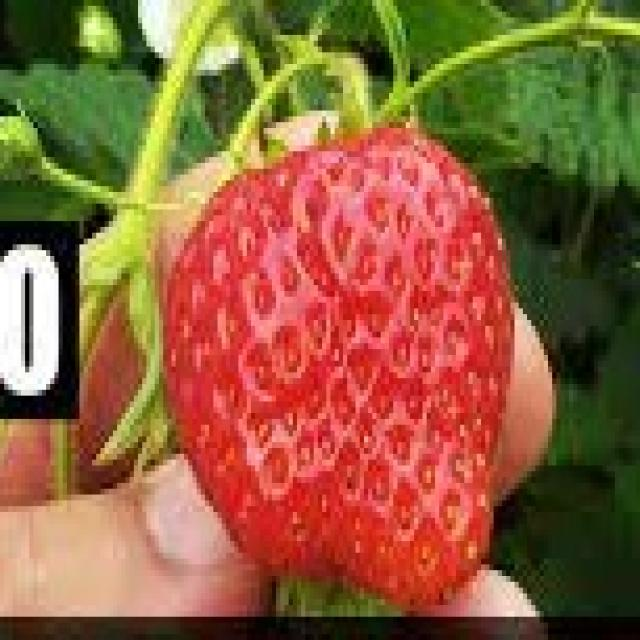strawberry: (155, 119, 526, 603)
